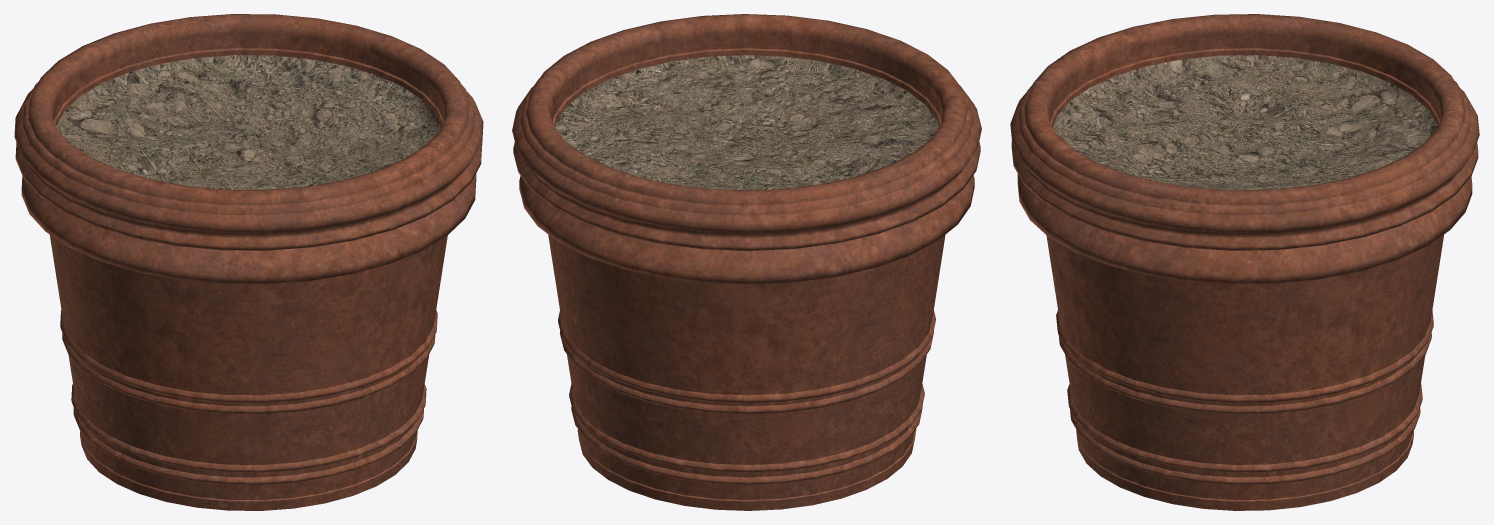
3 views of the same model, side by side, from view 1: azimuth 30°, elevation 25°; view 2: azimuth 150°, elevation 25°; view 3: azimuth 270°, elevation 25° (orthographic).
Parts seen in each view (by area): view 1: QH-花盆2; view 2: QH-花盆2; view 3: QH-花盆2.
Part boxes in pixels (<box>): QH-花盆2: <box>14,14,483,510</box>; QH-花盆2: <box>512,14,981,510</box>; QH-花盆2: <box>1010,14,1479,510</box>.
Bounding box in the file's own units: 0.1408 × 0.1408 × 0.1111.
